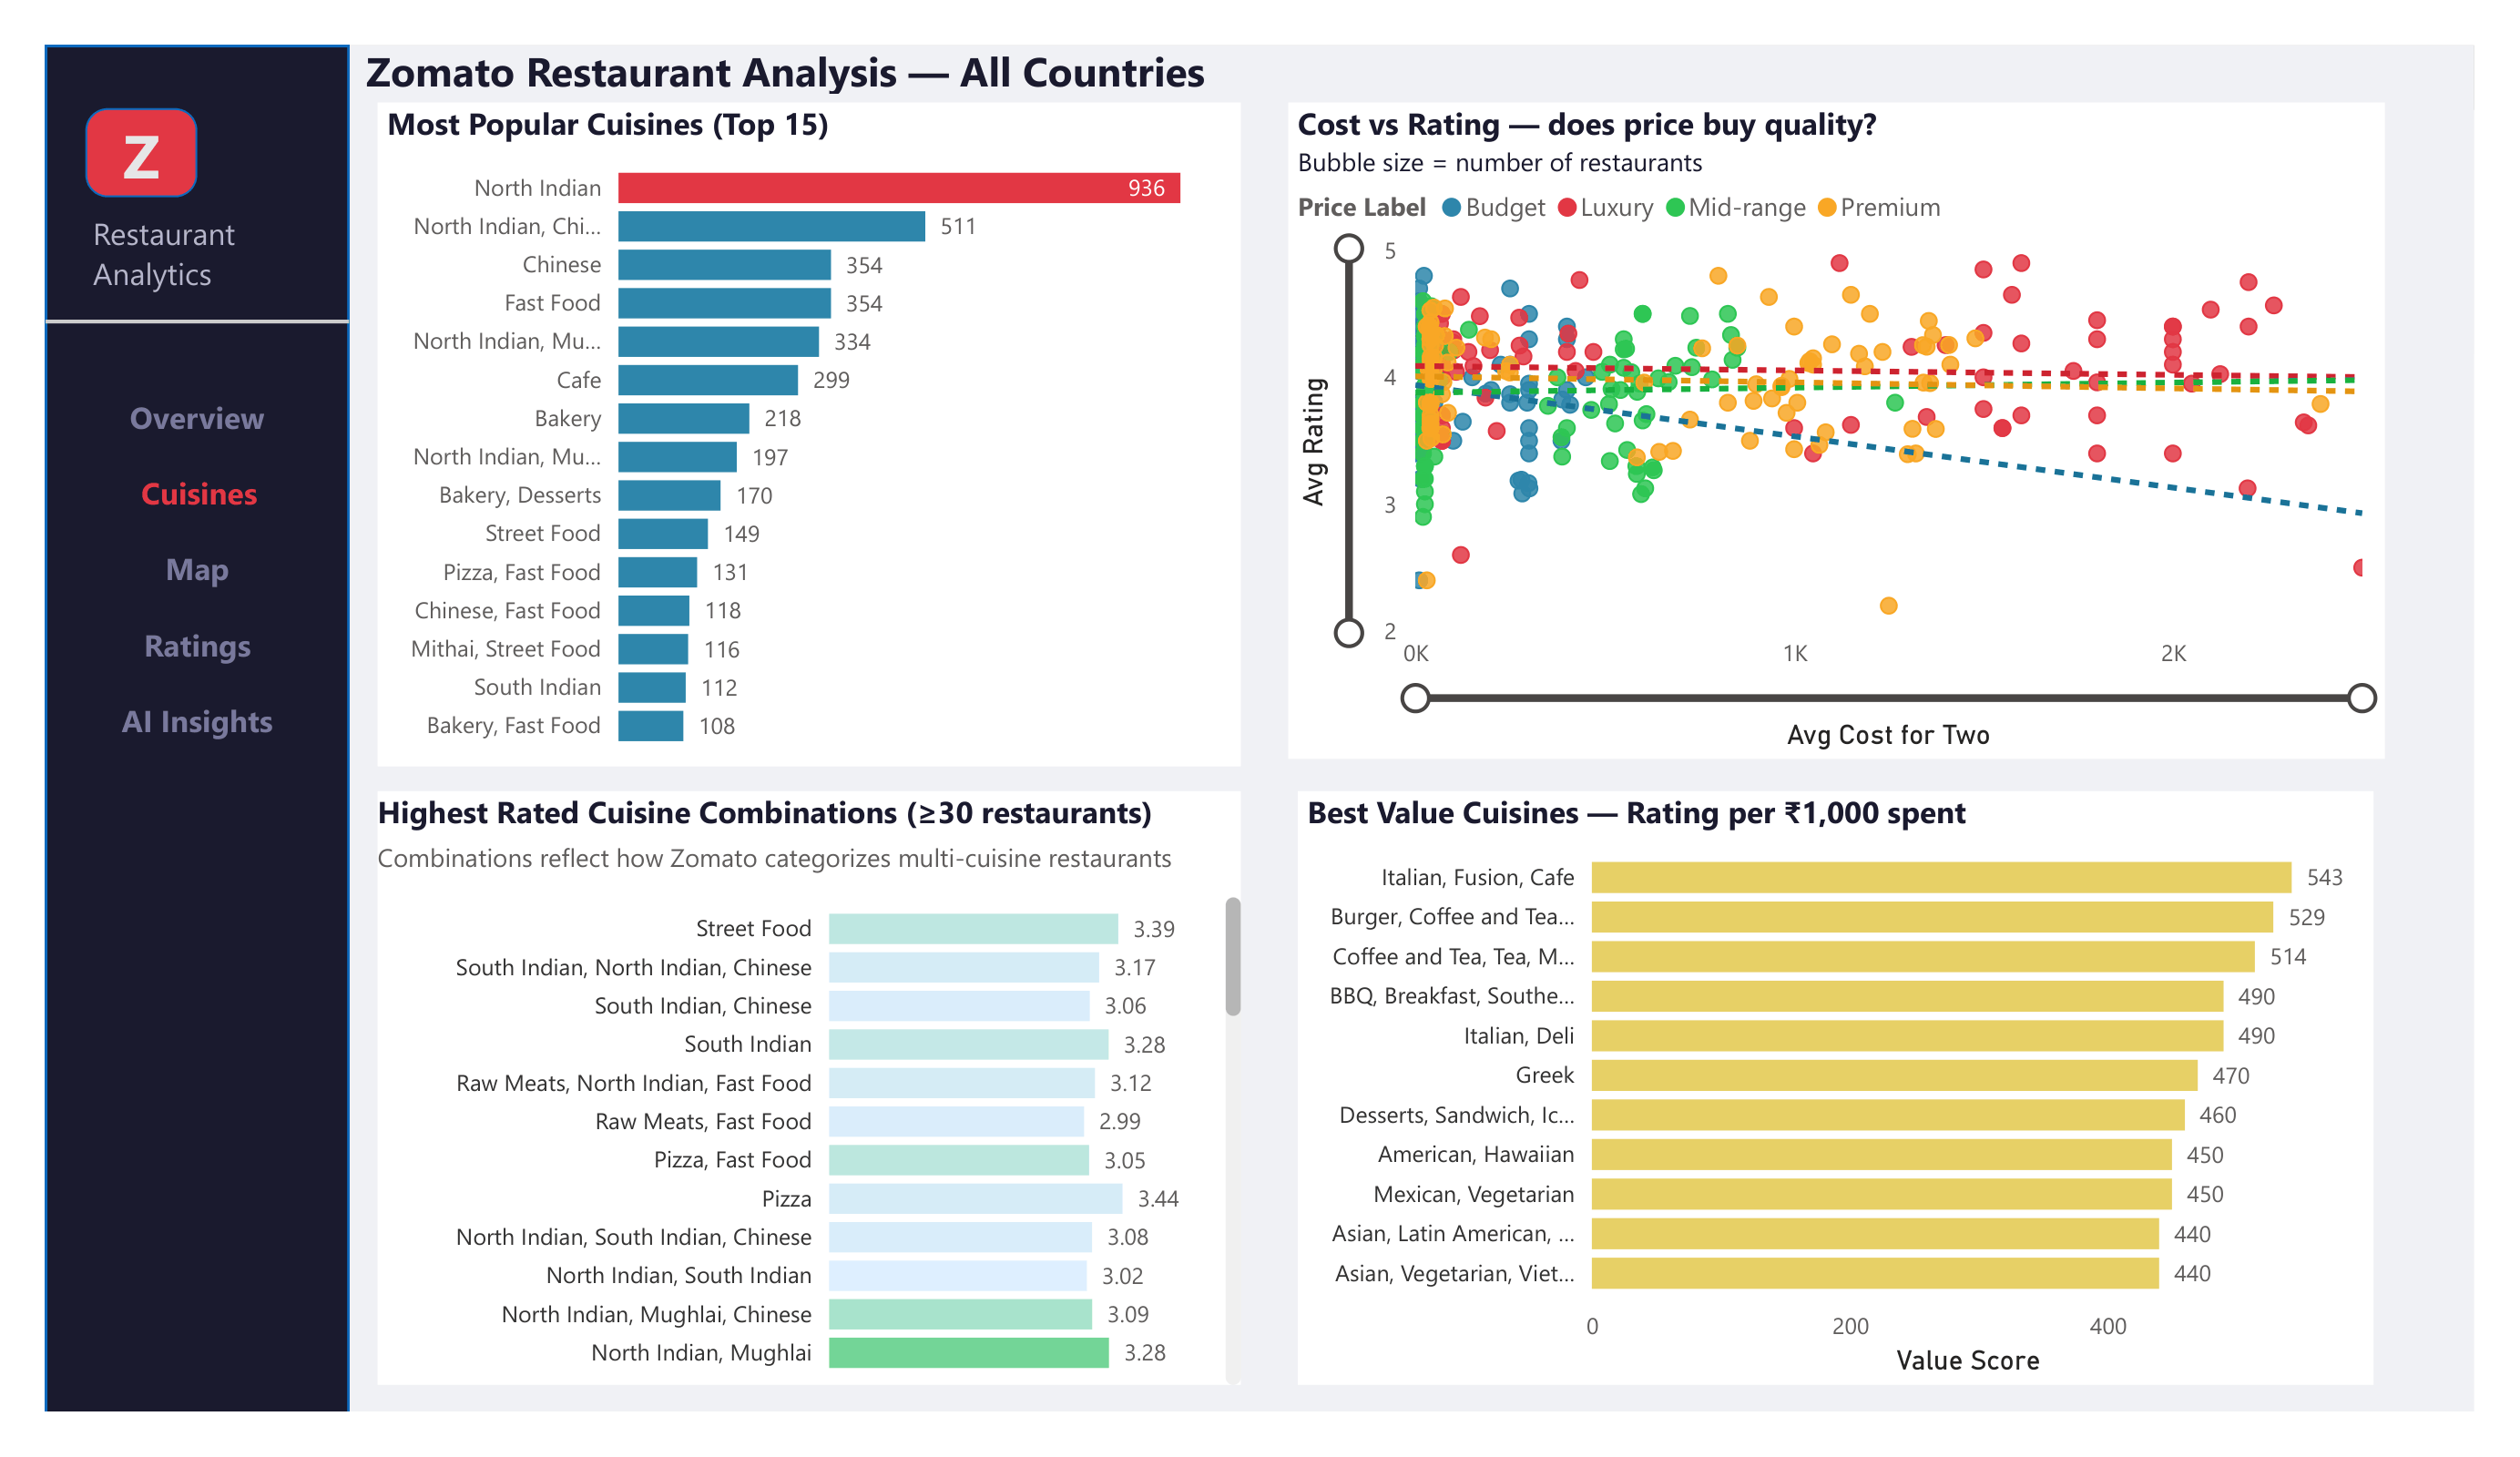

This screenshot's page, from the dashboard's own definition file:
{"tool":"powerbi","page":{"name":"Cuisines","canvas":[1280,720],"ordinal":1},"visuals":[{"type":"shape","box":[0,0,159.8,720.6],"z":0},{"type":"shape","box":[21.4,32.8,58.5,47.1],"z":1000},{"type":"textbox","box":[20,30,61.4,52.8],"z":2000},{"type":"textbox","box":[20,82.8,105.6,74.2],"z":3000},{"type":"actionButton","box":[0,175.5,159.8,40],"z":4000},{"type":"actionButton","box":[1.4,215.5,159.8,40],"z":5000},{"type":"actionButton","box":[0,255.4,159.8,40],"z":6000},{"type":"actionButton","box":[0,295.4,159.8,40],"z":7000},{"type":"actionButton","box":[0,335.3,159.8,40],"z":8000},{"type":"shape","box":[0,134.1,159.8,22.8],"z":9000},{"type":"clusteredBarChart","title":"Most Popular Cuisines (Top 15)","fields":{"Category":["Restaurants.Cuisines"],"Y":["_Measures.Total Restaurants"]},"box":[174.6,30.1,455.1,350.4],"z":10000},{"type":"card","fields":{"Values":["_Measures.Page Title"]},"box":[161.3,0,457.5,30.1],"z":11000},{"type":"clusteredBarChart","title":"Highest Rated Cuisine Combinations (≥30 restaurants)","fields":{"Category":["Restaurants.Cuisines"],"Y":["_Measures.Avg Rating"]},"box":[174.6,392.5,455.1,313],"z":12000},{"type":"scatterChart","title":"Cost vs Rating — does price buy quality?","fields":{"Y":["_Measures.Avg Rating"],"Series":["Restaurants.Price Label"],"X":["_Measures.Avg Cost for Two"],"Category":["Restaurants.City"]},"box":[655,30.1,577.9,345.6],"z":13000},{"type":"clusteredBarChart","title":"Best Value Cuisines — Rating per ₹1,000 spent","fields":{"Category":["Restaurants.Cuisines"],"Y":["_Measures.Value Score"]},"box":[659.8,392.5,567.1,313],"z":14000}]}

Visuals, with their boxes on the page's 1280x720 design canvas (x1, y1, x2, y2). These are canvas units, not pixel positions in the 2520x1457 screenshot, which may show the page scaled, cropped or inside an application window:
shape: box=[0, 0, 160, 721]
shape: box=[21, 33, 80, 80]
textbox: box=[20, 30, 81, 83]
textbox: box=[20, 83, 126, 157]
actionButton: box=[0, 176, 160, 216]
actionButton: box=[1, 216, 161, 256]
actionButton: box=[0, 255, 160, 295]
actionButton: box=[0, 295, 160, 335]
actionButton: box=[0, 335, 160, 375]
shape: box=[0, 134, 160, 157]
"Most Popular Cuisines (Top 15)" clusteredBarChart: box=[175, 30, 630, 380]
card - _Measures.Page Title: box=[161, 0, 619, 30]
"Highest Rated Cuisine Combinations (≥30 restaurants)" clusteredBarChart: box=[175, 392, 630, 706]
"Cost vs Rating — does price buy quality?" scatterChart: box=[655, 30, 1233, 376]
"Best Value Cuisines — Rating per ₹1,000 spent" clusteredBarChart: box=[660, 392, 1227, 706]
